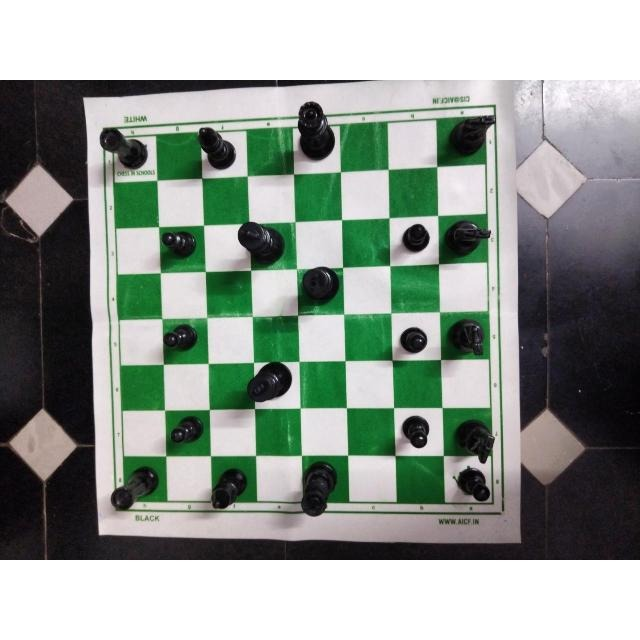black-bishop: (207, 464, 253, 514), (194, 124, 242, 170)
black-king: (234, 218, 290, 269), (298, 459, 341, 519), (244, 358, 295, 404), (298, 263, 342, 307)
black-knight: (449, 417, 503, 465), (447, 114, 497, 158), (444, 313, 490, 358), (442, 216, 492, 257)
black-pawn: (450, 464, 492, 505), (158, 225, 201, 261), (161, 320, 201, 358), (165, 414, 206, 451), (399, 411, 436, 451), (397, 219, 431, 255), (399, 324, 433, 358)
black-queen: (292, 98, 337, 162)
black-rook: (96, 127, 152, 175), (109, 466, 163, 514)
